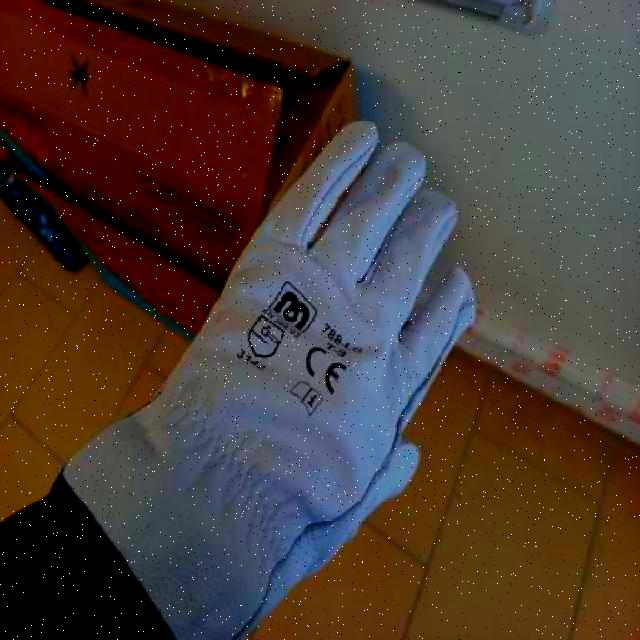Gloves: (180, 120, 526, 583)
